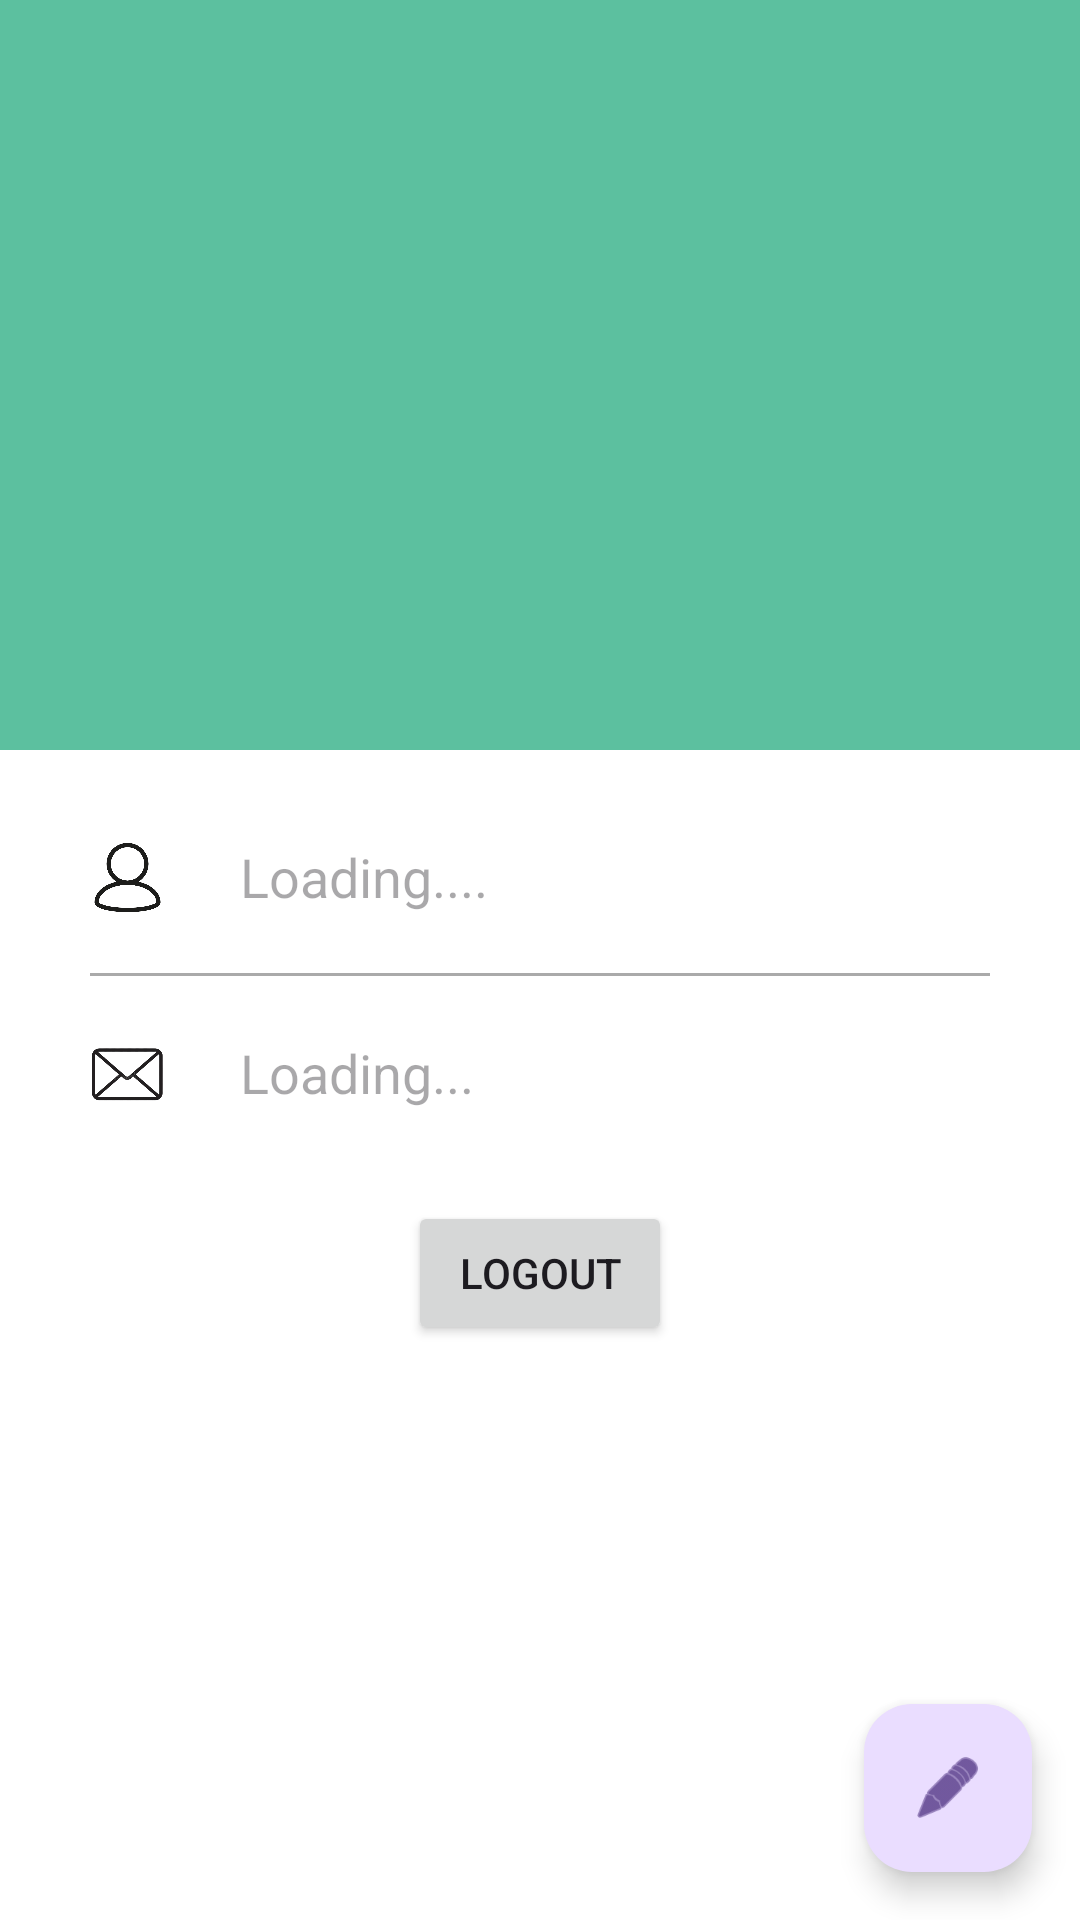

Where icons sit on this 1080*1920 app screen, as (x1, y1, x2, y2):
Edit Profile: (864, 1704, 1032, 1872)
email: (92, 1048, 163, 1100)
profile: (94, 843, 161, 912)
